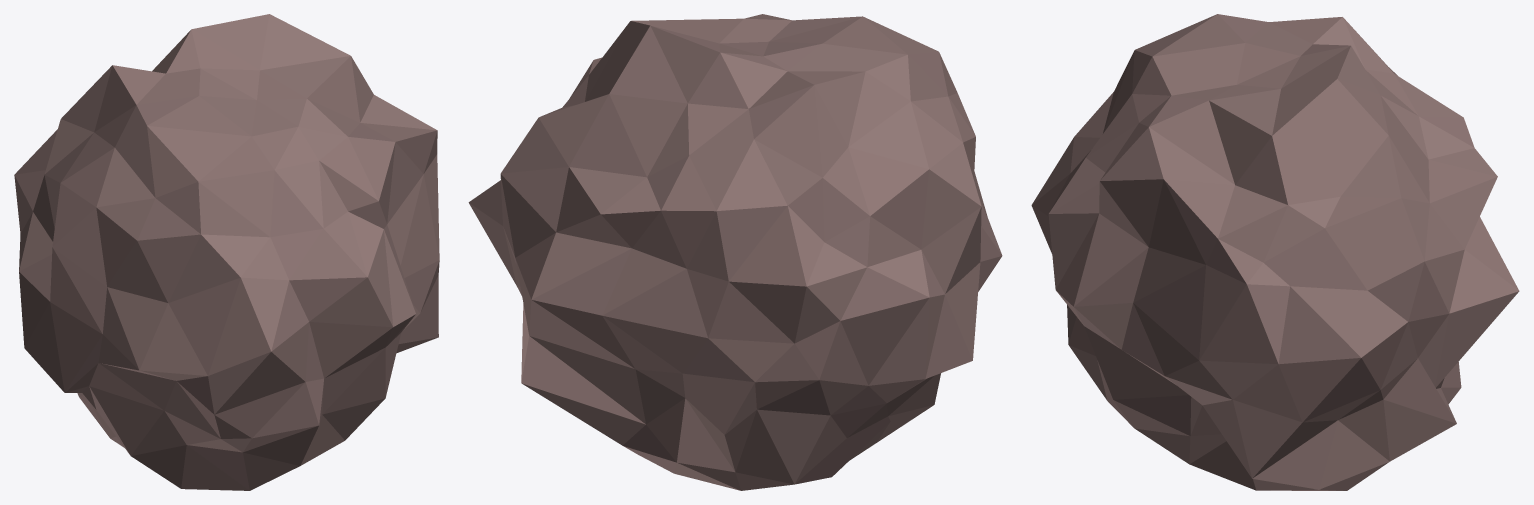
File: Asteroid_4.fbx
The picture shows the model from 3 angles, left to right: view 1: azimuth 30°, elevation 25°; view 2: azimuth 150°, elevation 25°; view 3: azimuth 270°, elevation 25°; orthographic projection. The views are drawn at different scales.
Visible parts, largest first — view 1: Icosphere.027; view 2: Icosphere.027; view 3: Icosphere.027.
Part boxes in pixels (x1=…): Icosphere.027: x1=14, y1=14, x2=439, y2=490; Icosphere.027: x1=468, y1=14, x2=1002, y2=490; Icosphere.027: x1=1031, y1=14, x2=1519, y2=490.
Bounding box in the file's own units: 302 × 286 × 296.
